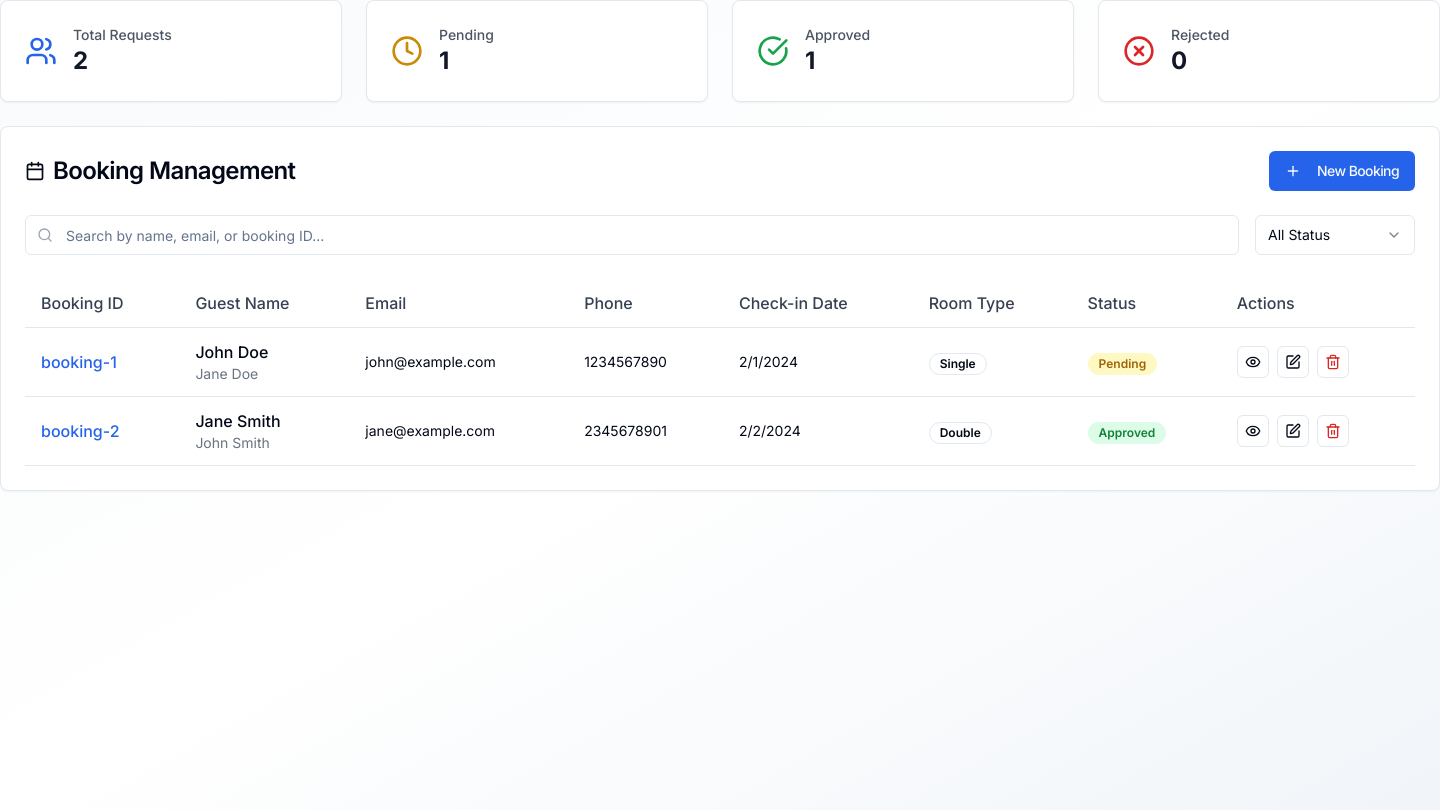
Test case: BookingManagement Component › opens view dialog with booking details
The width and height of the screenshot is (1440, 810).
Click the 2nd button at {"x": 1253, "y": 362}, box [1237,346,1269,378]
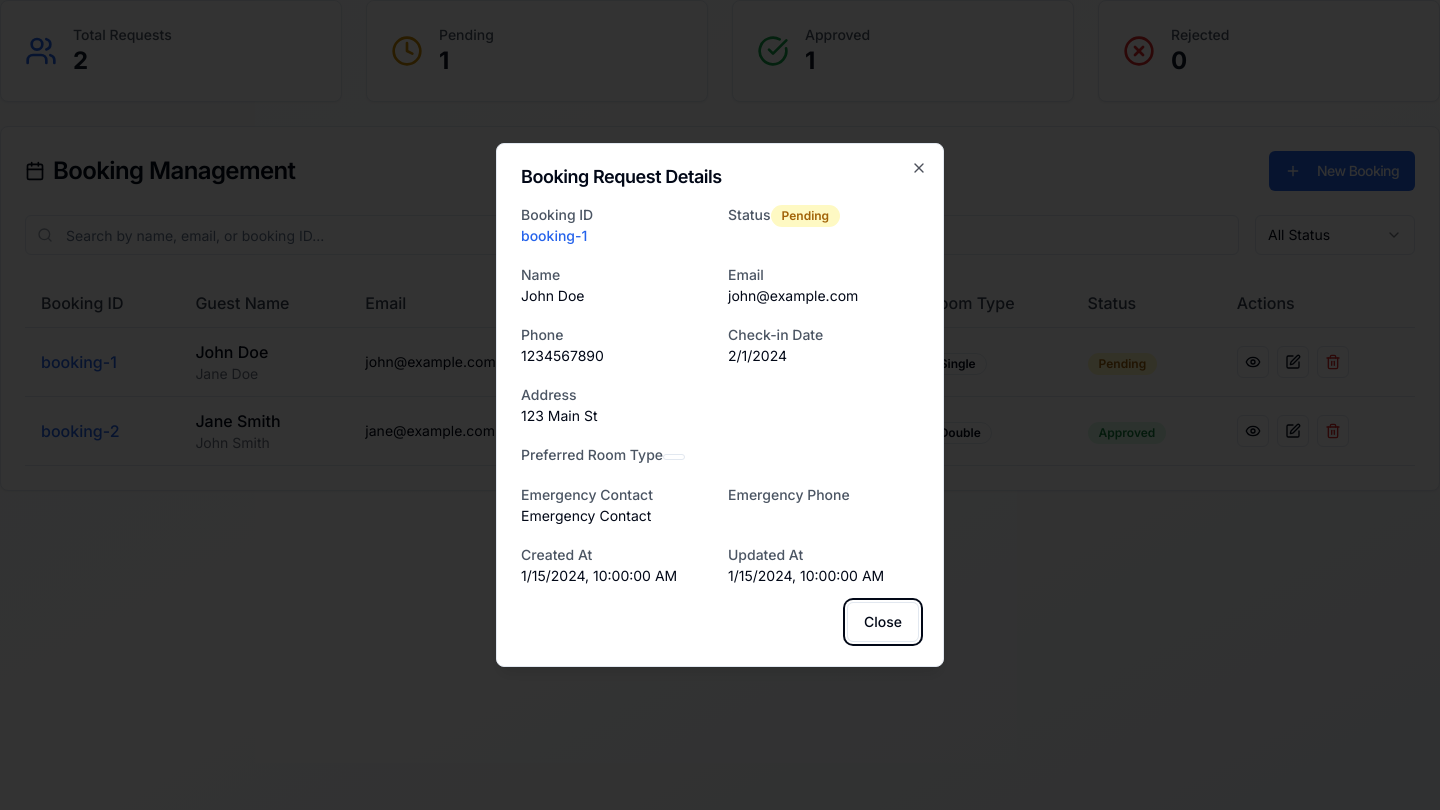
Now the heading "Booking Request Details" is shown, box [521,166,722,187]
